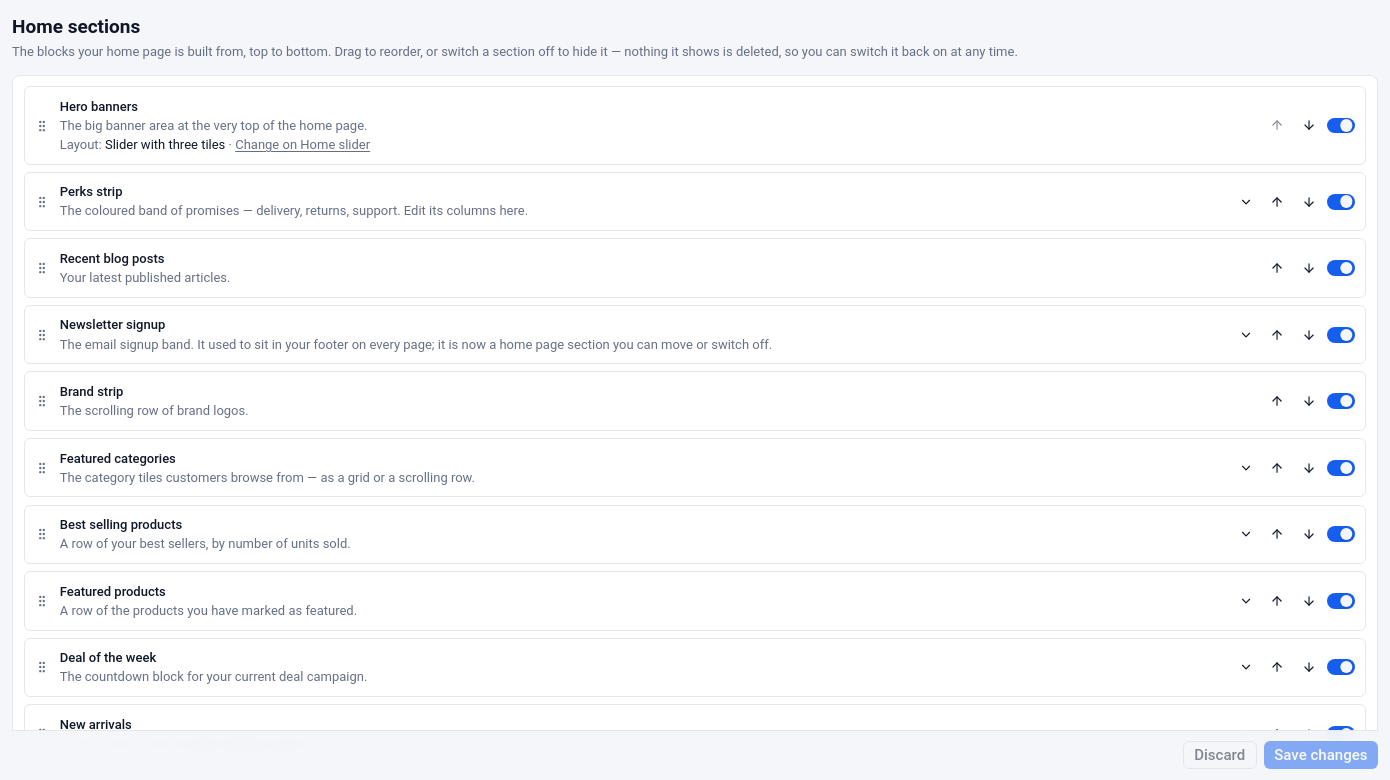
it: the perks strip editor › seeds an unconfigured store from the shipped defaults rather than from nothing
Click the button named "perks strip settings": point(1246, 202) [1232,188,1260,216]
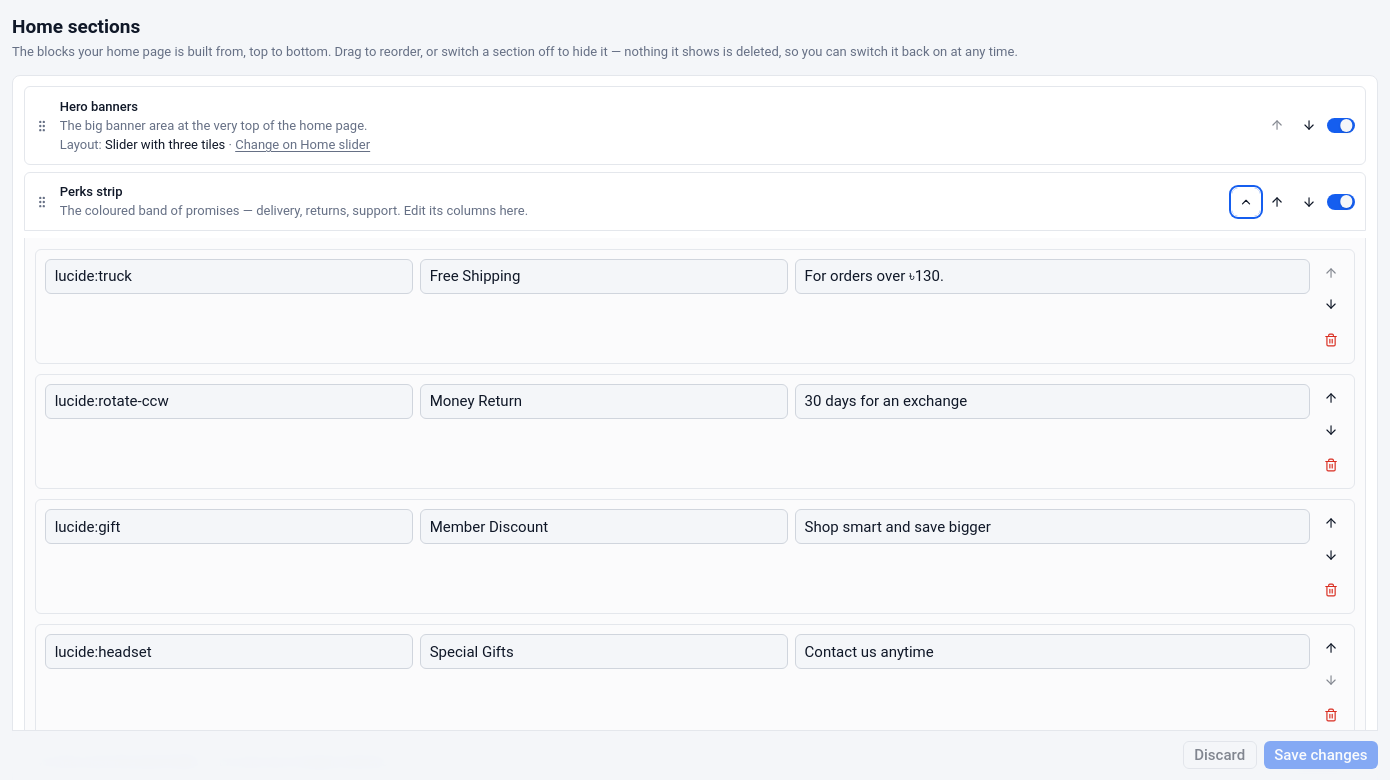
Now the field showing "Free Shipping" is shown, box [420,259,788,294]
Now the field showing "lucide:truck" is shown, box [45,259,413,294]
